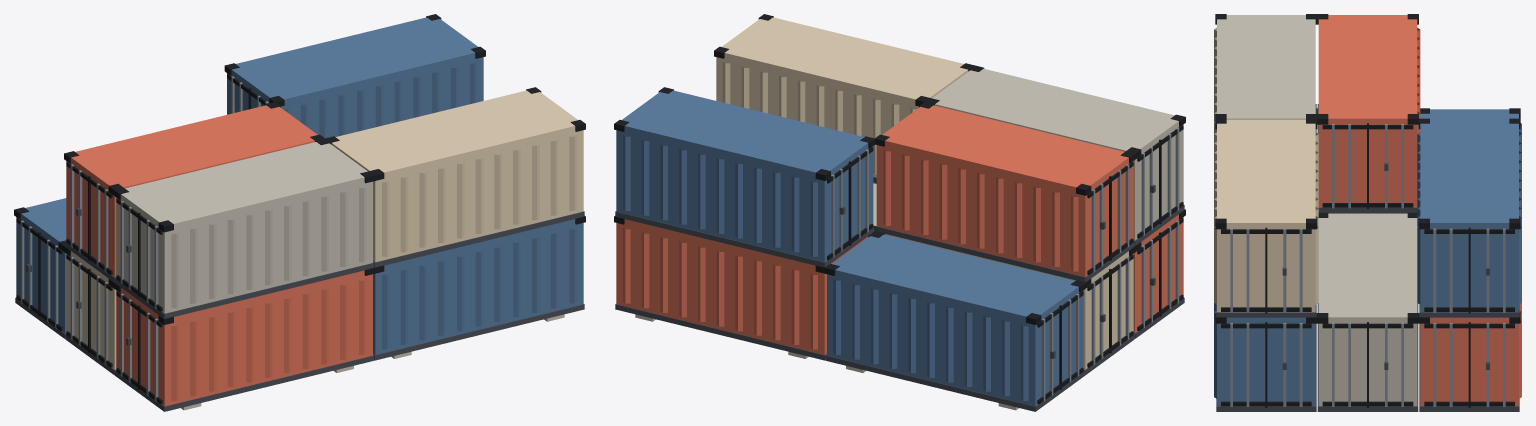
Rendered from container_stack.glb.
3 renders of one model, left to right at view 1: azimuth 30°, elevation 25°; view 2: azimuth 150°, elevation 25°; view 3: azimuth 270°, elevation 25°, orthographic.
Parts seen in each view (by area): view 1: Body; view 2: Body; view 3: Body.
Boxes of the visible parts, left/top/right/bottom form: Body: left=14, top=14, right=585, bottom=411; Body: left=614, top=14, right=1185, bottom=411; Body: left=1214, top=14, right=1521, bottom=411.
Bounding box in the file's own units: 12.3 × 5.21 × 7.54.
